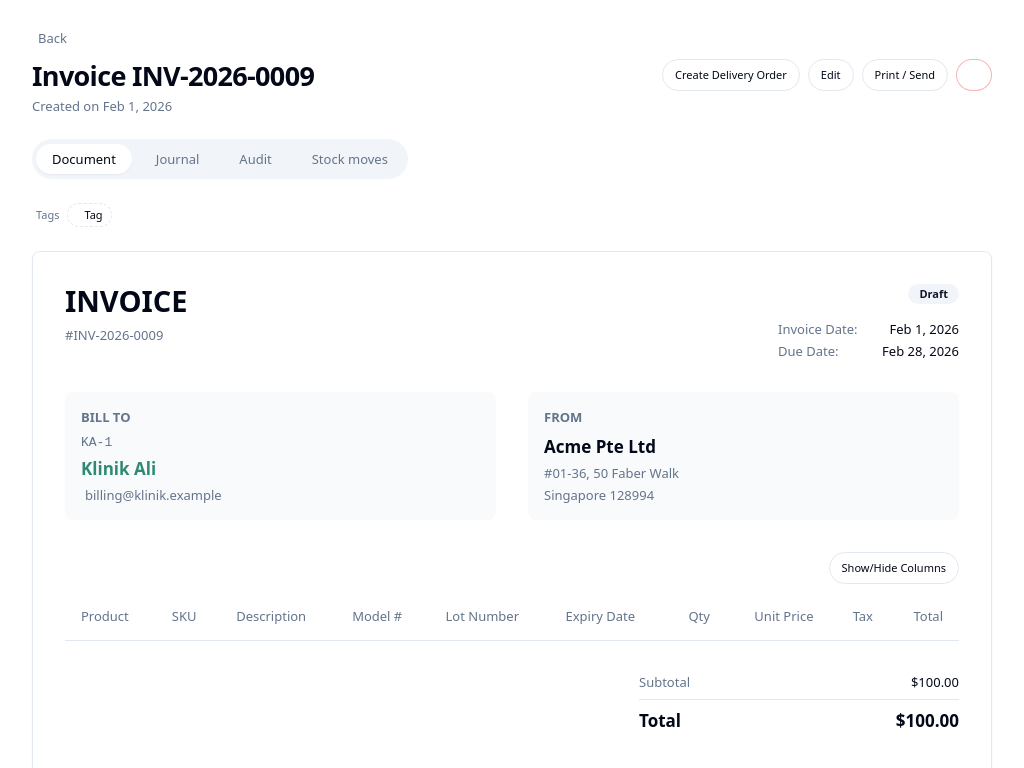
Test: InvoiceDetailPage — Journal tab (#883) › shows the draft journal preview from the shared server-side builder
Expected: the heading "Invoice INV-2026-0009" is shown, [32,57,314,94]
Press the mouse on the tab "Journal" at x=174, y=159, box [132,144,215,174]
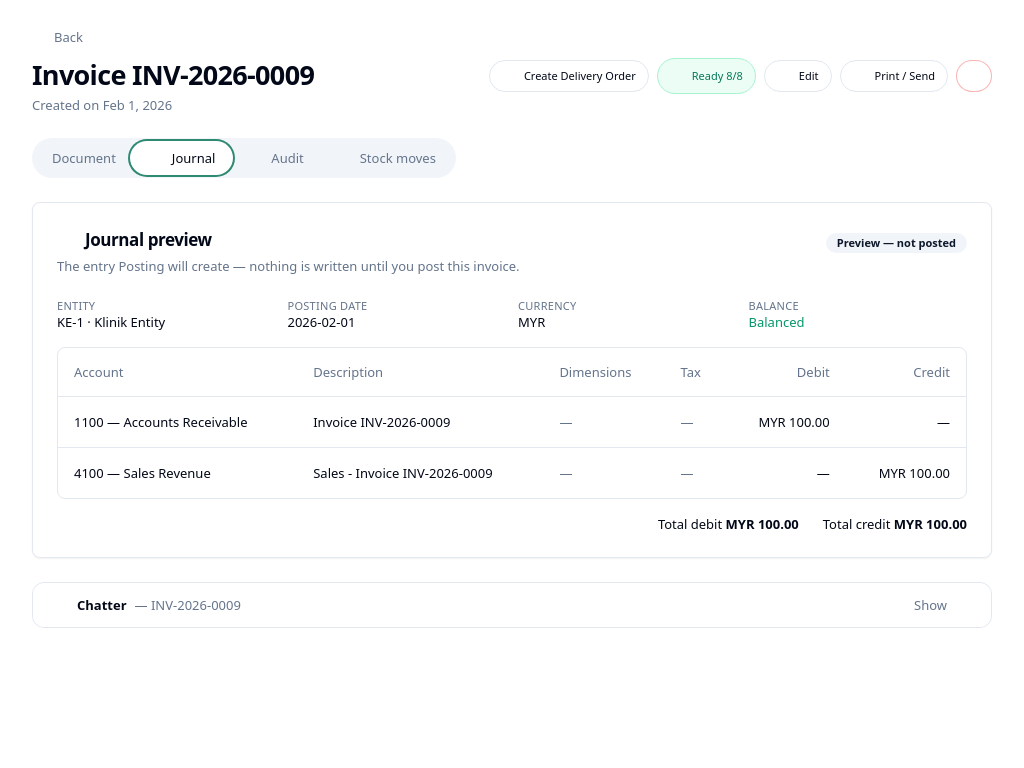
Now the heading "Journal preview" is shown, box [57,228,212,251]
Now the text "Preview — not posted" is shown, box [826,233,967,253]
Now the text "The entry Posting will create — nothing is written until you post this invoice." is shown, box [57,257,520,275]
